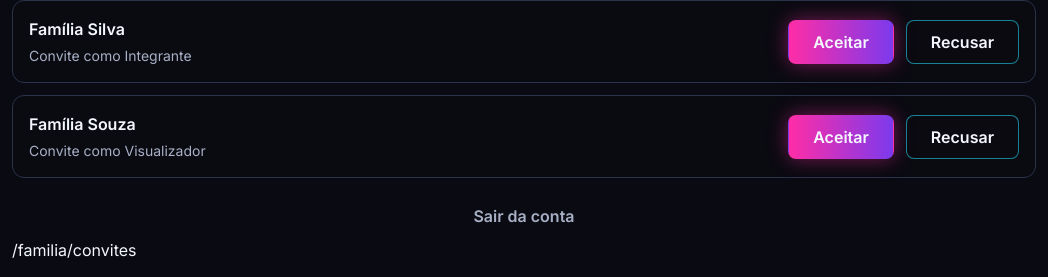
Test case: PendingInvitesList (FAM-005, AUTH-005) › aceitar: guarda a familia como contexto e segue para o app
Click the button with aria-label "aceitar convite de família silva".
click(841, 42)  # box left=788, top=20, right=894, bottom=64
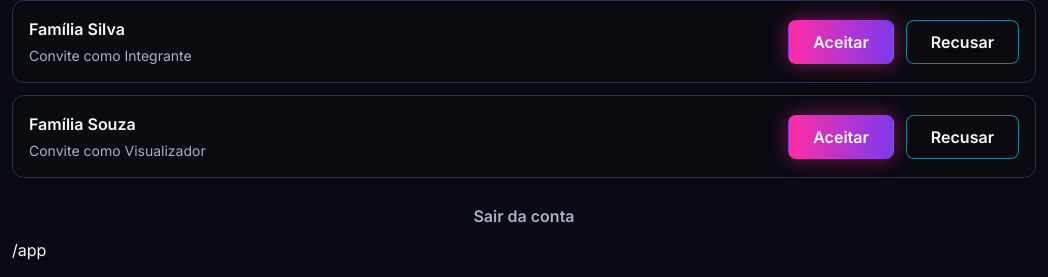
Expected: the text with test id "location" reads "/app", left=12, top=240, right=46, bottom=260
